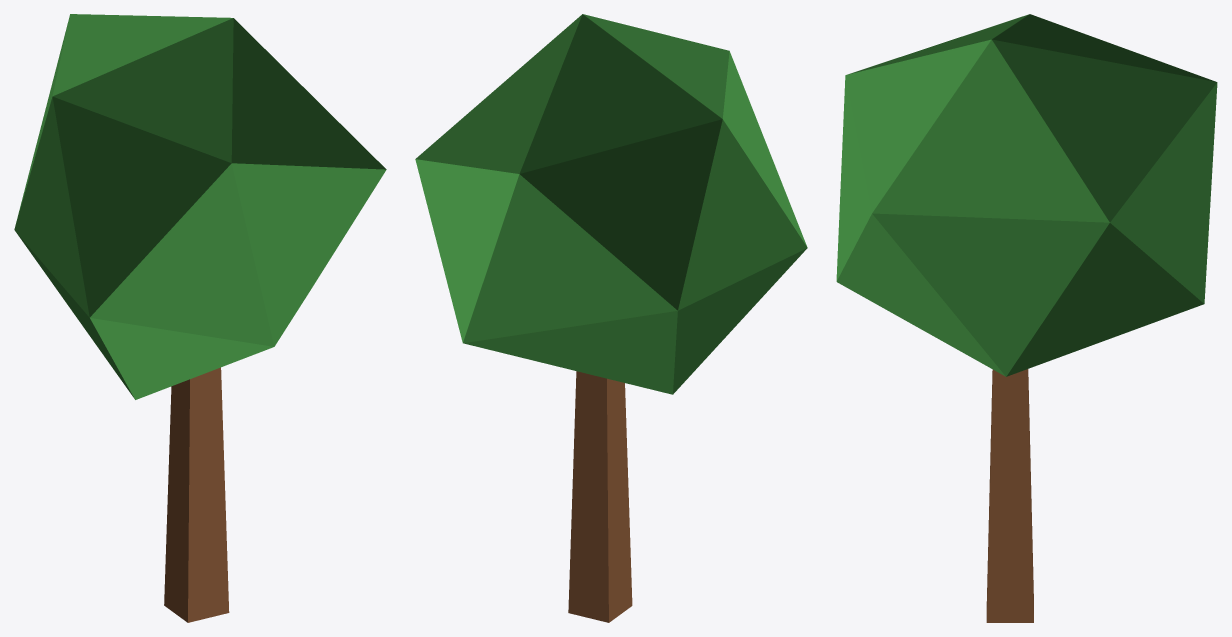
The model's file is tree_02.fbx.
3 views of the same model, side by side, from view 1: azimuth 30°, elevation 25°; view 2: azimuth 150°, elevation 25°; view 3: azimuth 270°, elevation 25° (orthographic).
Parts seen in each view (by area): view 1: tree_02; view 2: tree_02; view 3: tree_02.
Part boxes in pixels (x1=…): tree_02: x1=14, y1=14, x2=386, y2=622; tree_02: x1=415, y1=14, x2=807, y2=622; tree_02: x1=836, y1=14, x2=1217, y2=622.
Size of the model in its own units: 171 by 325 by 191.
Materials: 1 (1 with a texture image).
